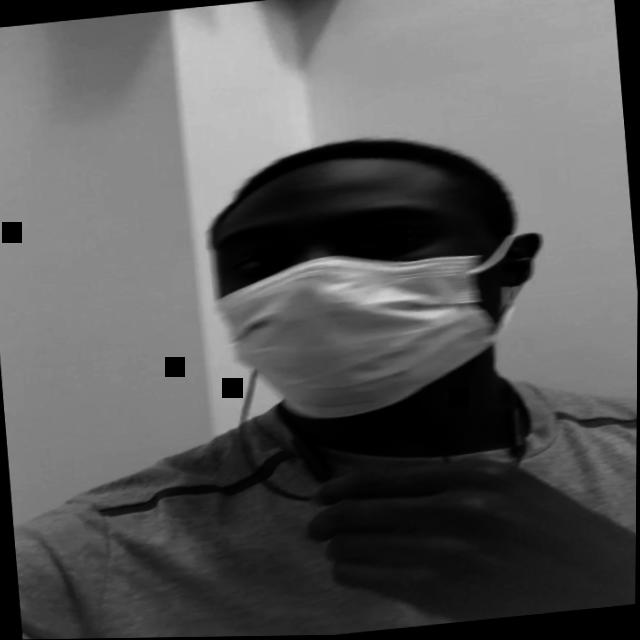Mask: (201, 154, 529, 433)
